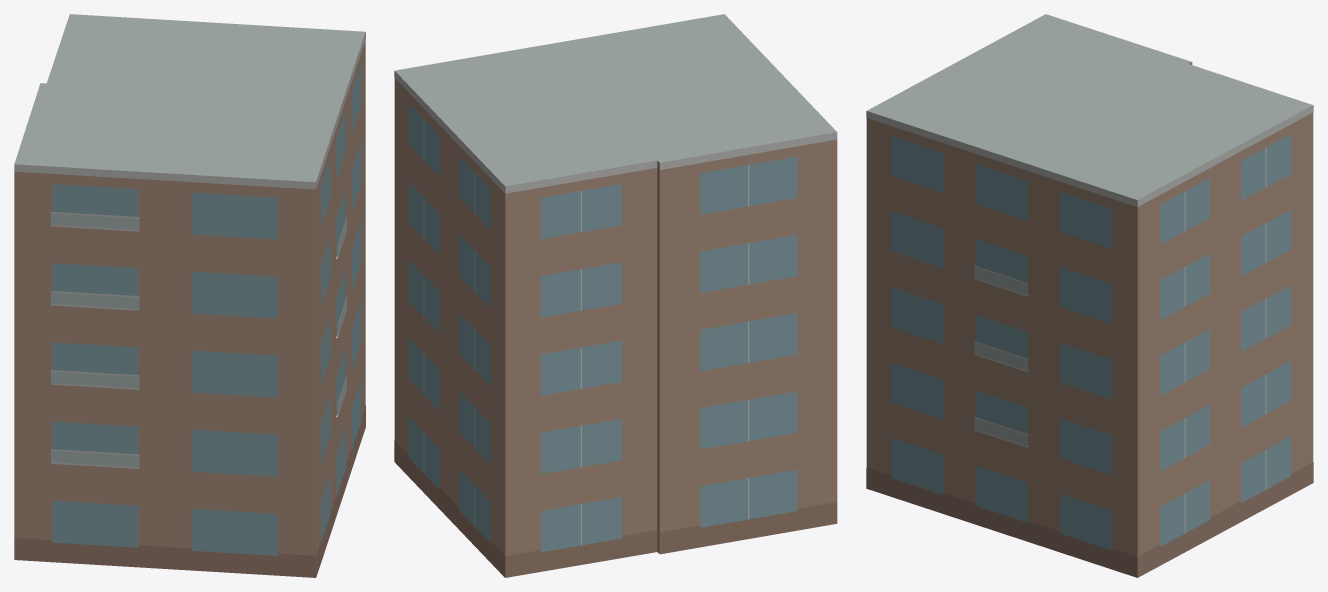
The model's file is survey-upis-32842902.glb.
3 renders of one model, left to right at view 1: azimuth 30°, elevation 25°; view 2: azimuth 150°, elevation 25°; view 3: azimuth 270°, elevation 25°, orthographic. The views are drawn at different scales.
Parts seen in each view (by area): view 1: survey-upis-32842902.tmp; view 2: survey-upis-32842902.tmp; view 3: survey-upis-32842902.tmp.
Boxes of the visible parts, box(x1,y1,x2,y2) form: survey-upis-32842902.tmp: box(14, 14, 365, 577); survey-upis-32842902.tmp: box(394, 14, 837, 577); survey-upis-32842902.tmp: box(866, 14, 1313, 577).
Bounding box in the file's own units: 13.96 × 13.2 × 14.16.
